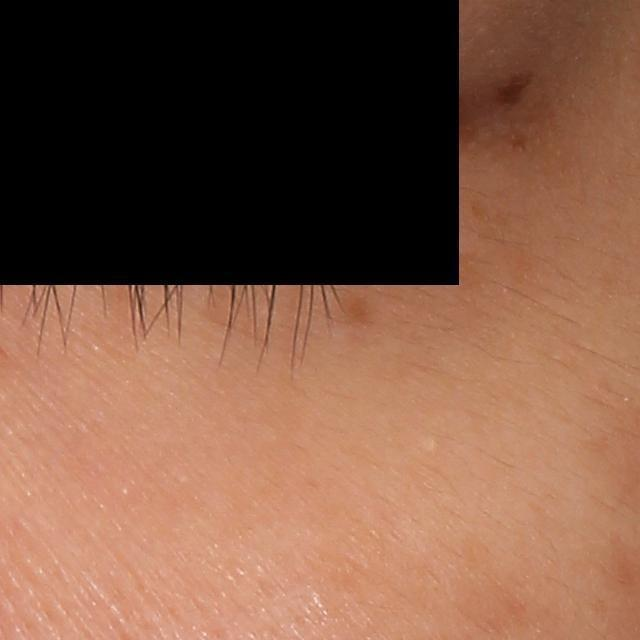atrophic_scar: (492, 70, 539, 107)
comedo: (423, 436, 441, 453)
melasma: (330, 292, 384, 334)
